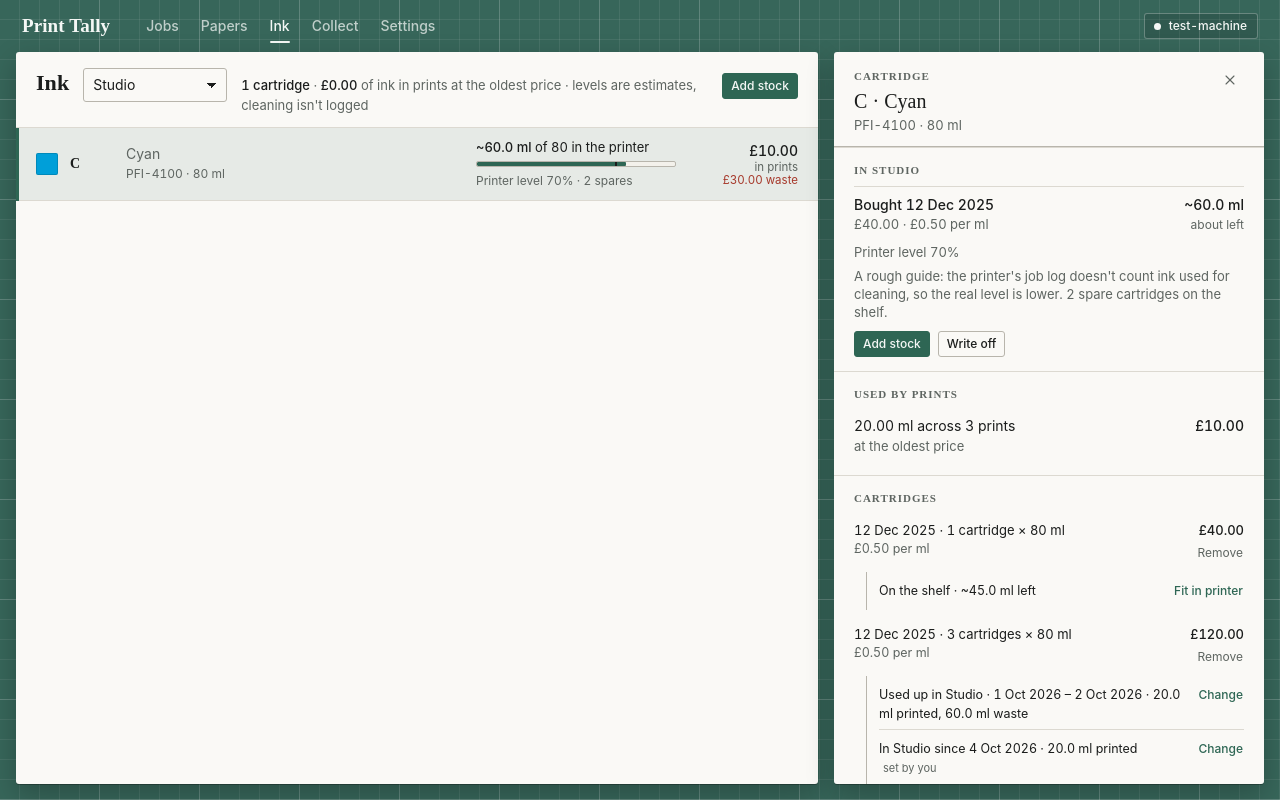
Test case: a fitting conflict is shown beside the inline form
Step 1. Click the button "Fit in printer" → (1209, 591), box [1165, 578, 1252, 604]
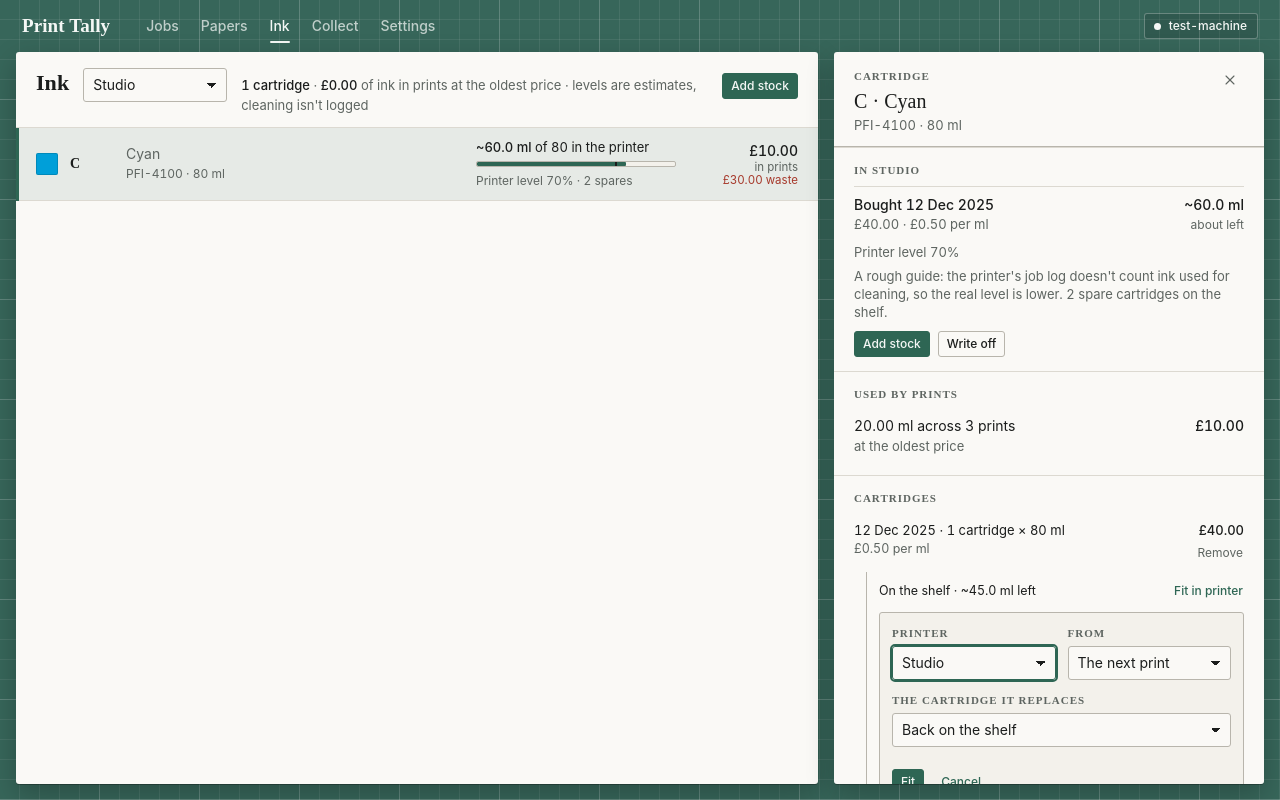
Step 2. Click the button "Fit" → (908, 782), box [892, 769, 924, 795]
(page scrolled)
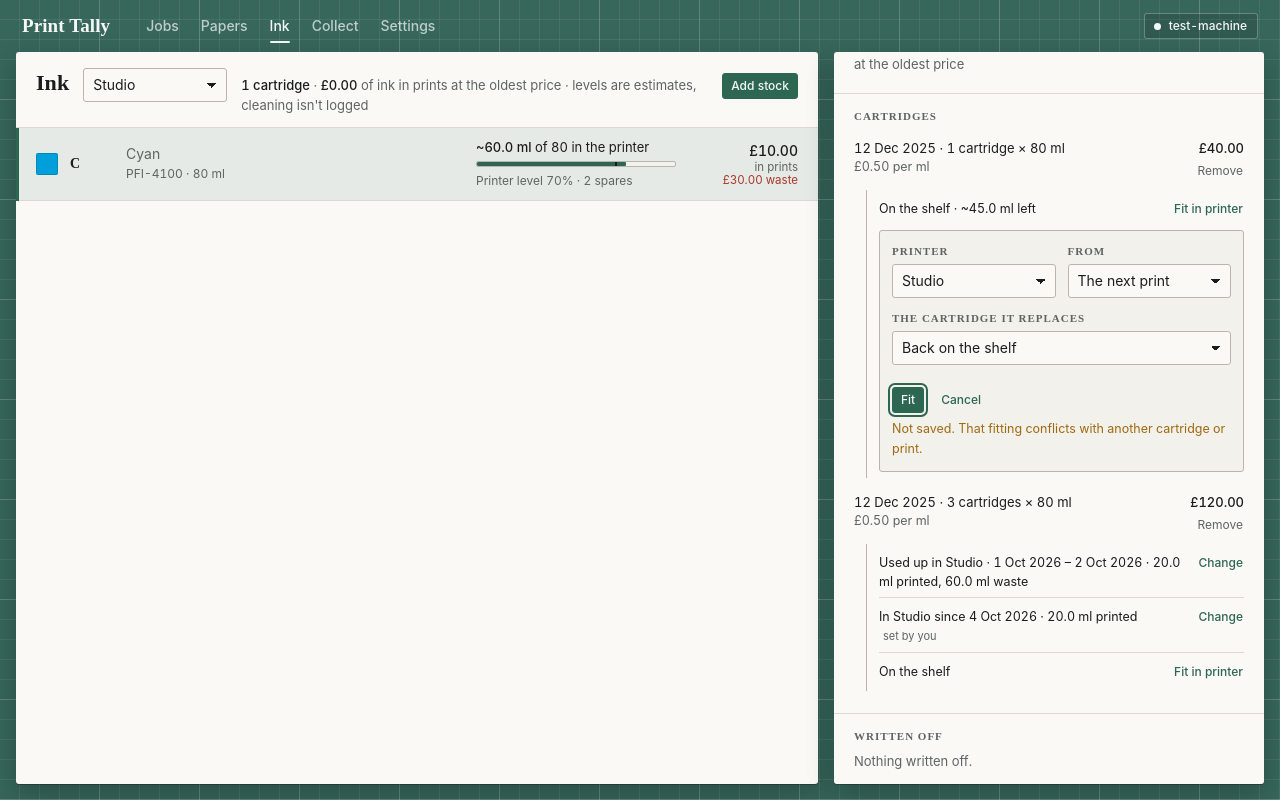
Expected: the text "Not saved. That fitting conflicts with another cartridge or print." is shown, [892, 419, 1231, 459]
